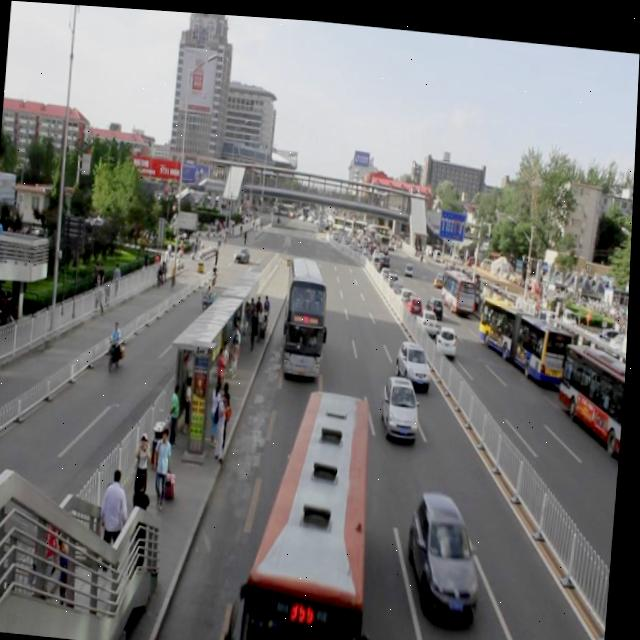car: (404, 483, 492, 620), (379, 368, 426, 441), (394, 334, 436, 382)
van: (226, 377, 394, 640), (279, 249, 335, 381)
